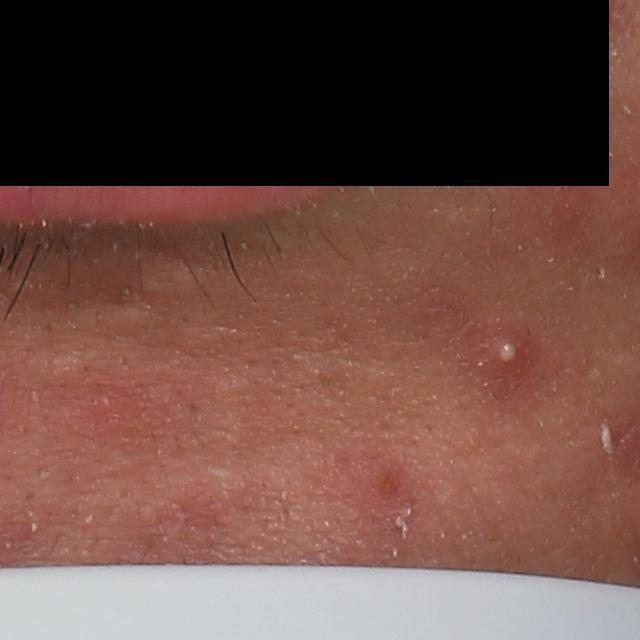hypertrophic_scar: (85, 294, 169, 342), (132, 259, 213, 300), (30, 349, 93, 382)
pustule: (482, 324, 541, 383)
